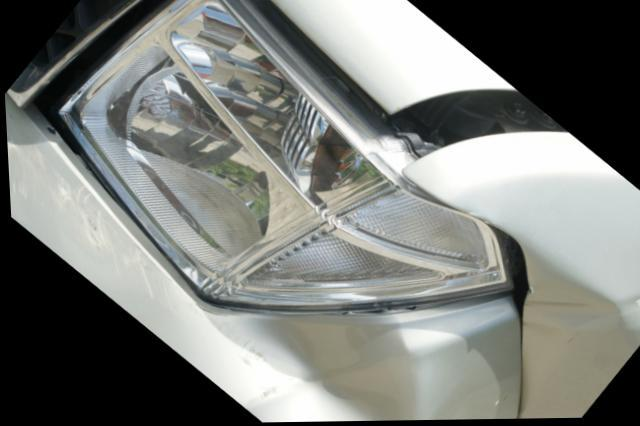dent: (205, 312, 427, 423), (516, 263, 634, 420)
dislocated part: (219, 0, 580, 185)
scratch: (5, 122, 172, 302)
